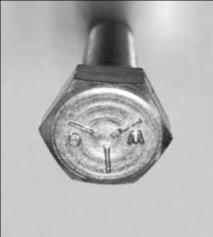hexagonal: (37, 66, 174, 184)
